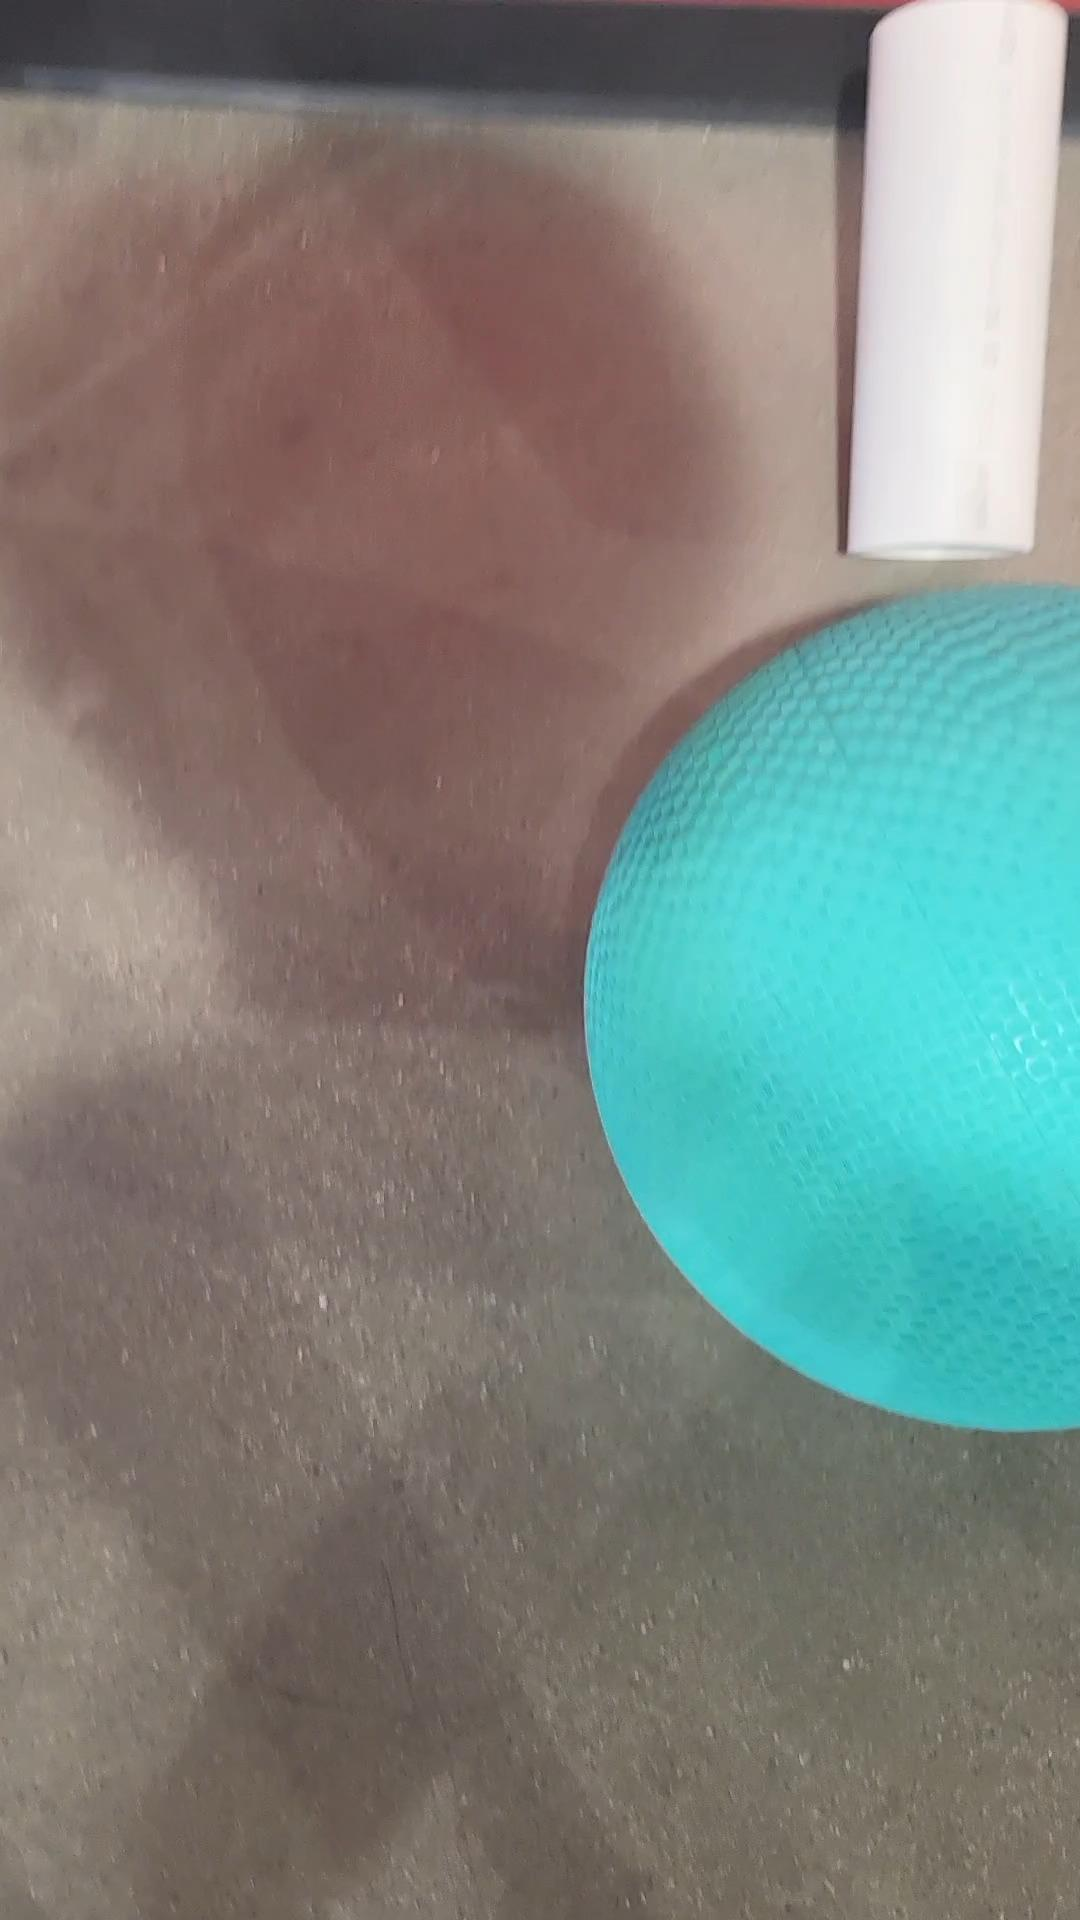algae: (571, 571, 1079, 1449)
